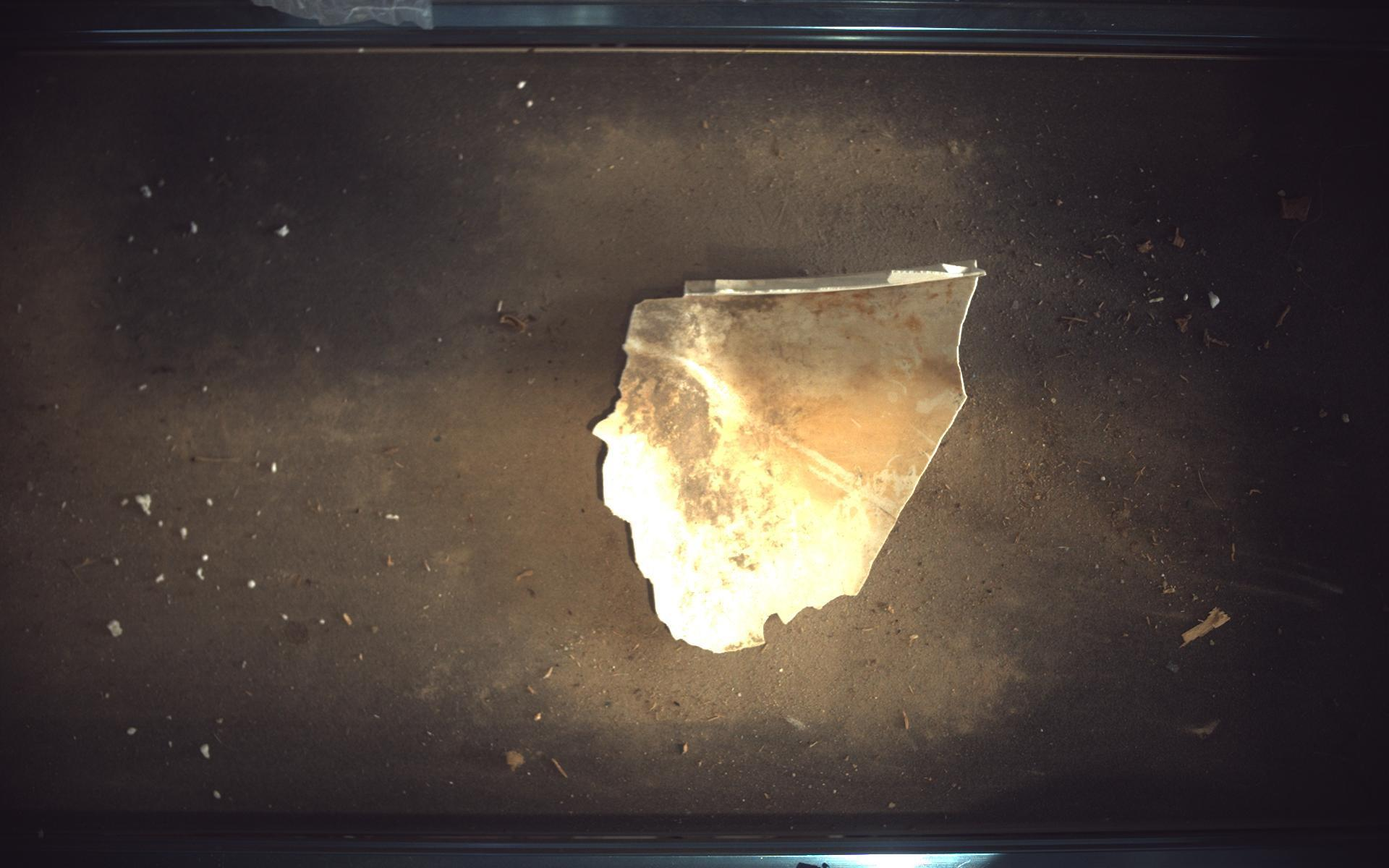plastic: (594, 262, 987, 653)
